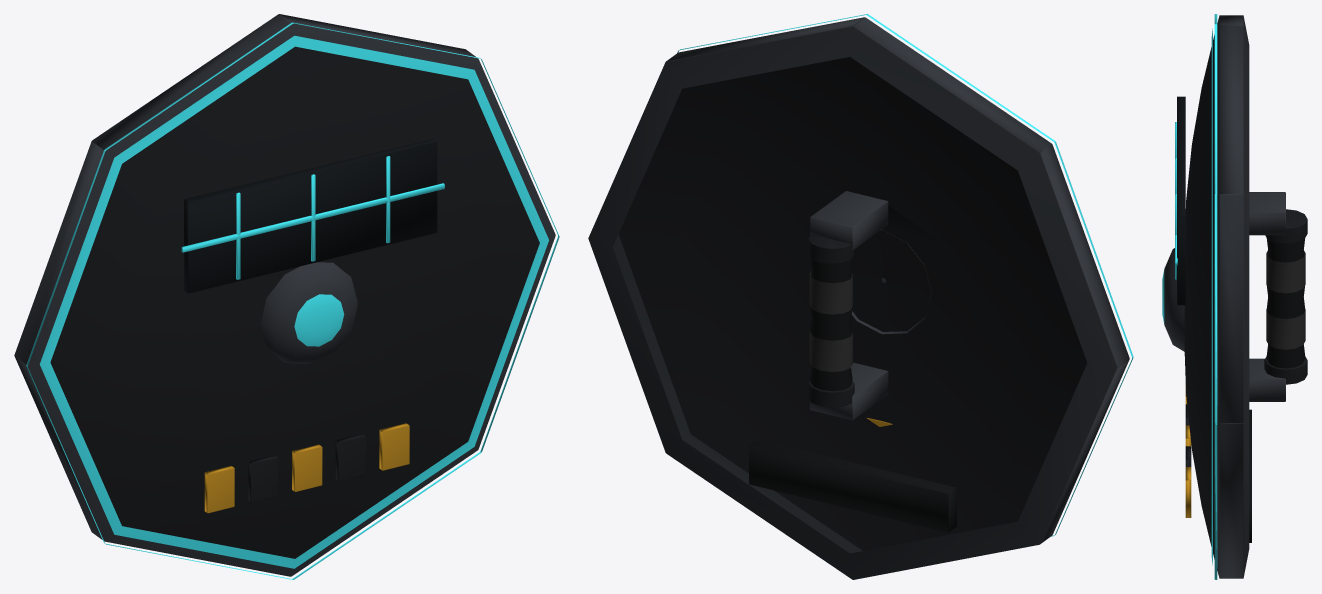
The model's file is gear_neon_buckler.glb.
3 views of the same model, side by side, from view 1: azimuth 30°, elevation 25°; view 2: azimuth 150°, elevation 25°; view 3: azimuth 270°, elevation 25° (orthographic).
Parts seen in each view (by area): view 1: gear_neon_buckler; view 2: gear_neon_buckler; view 3: gear_neon_buckler.
Part boxes in pixels (x1,y1,x2,y2): gear_neon_buckler: (14, 14, 559, 579); gear_neon_buckler: (588, 14, 1133, 579); gear_neon_buckler: (1162, 14, 1307, 579).
Size of the model in its own units: 0.4258 by 0.4258 by 0.1029.
